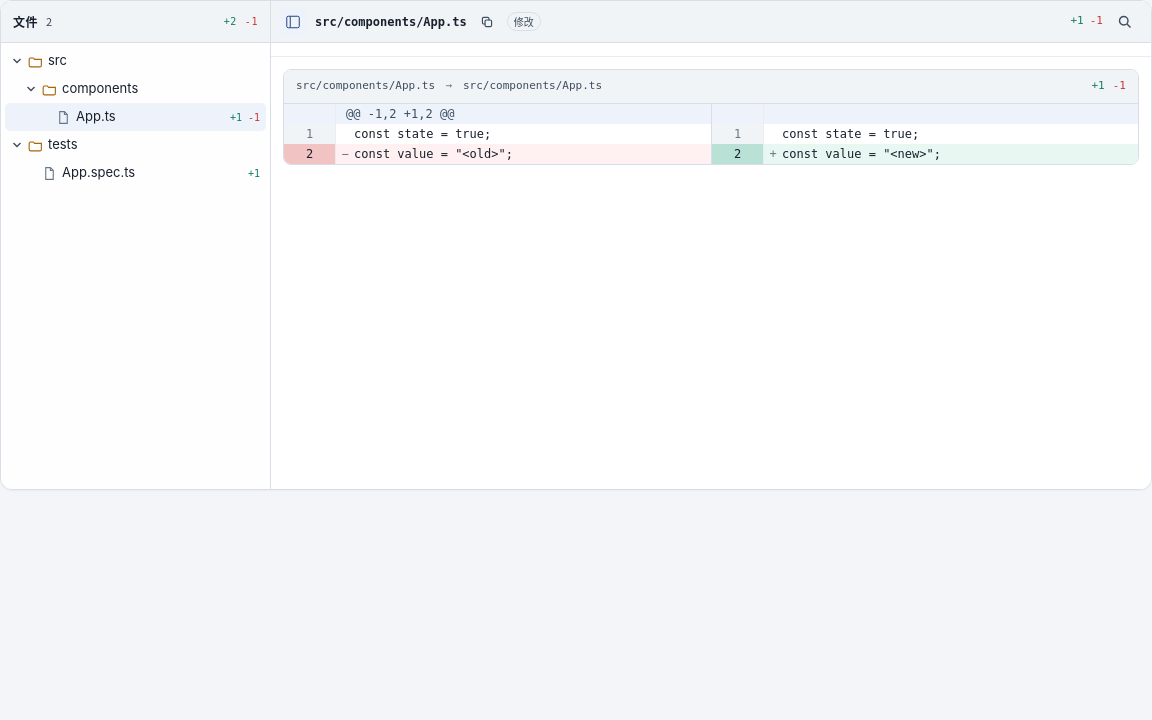
Test: DiffViewer 受控标准 patch › 切换文件时只渲染对应的标准 patch
Click the list item "App.spec.ts +1". click: (136, 173)
box: [5,159,266,187]
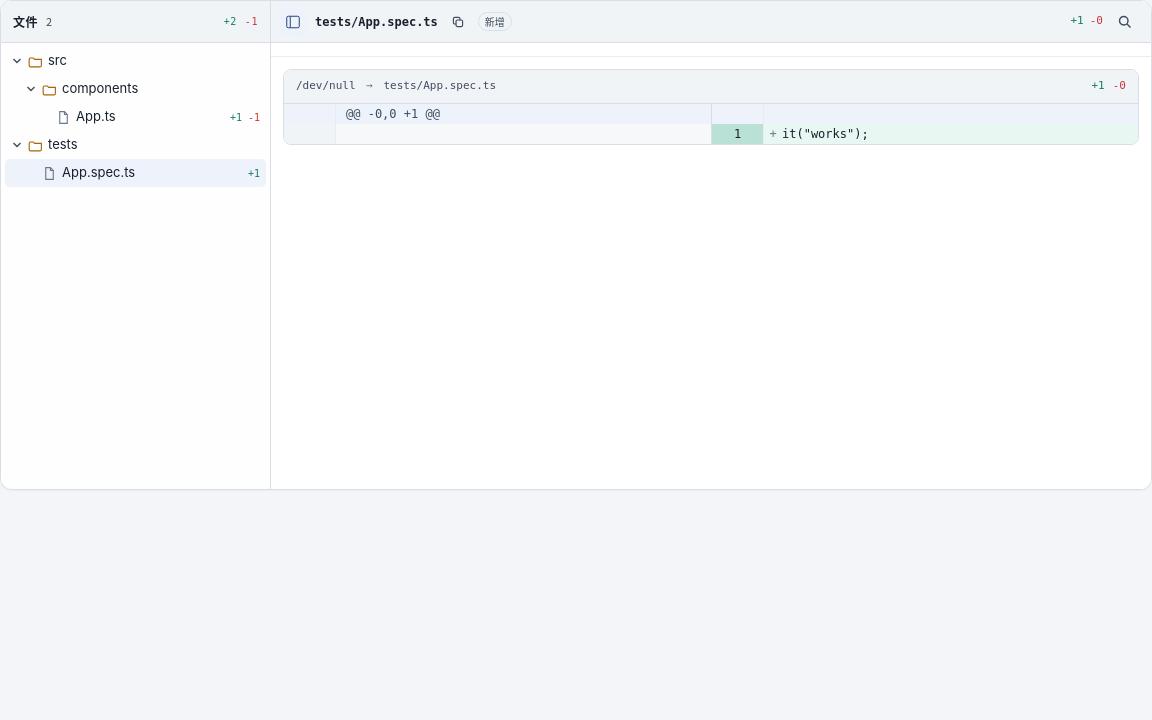
Now the element with class "controlled-side-right" shows "it(\"works\");", box [782,127,869,141]
Now the number of elements with class "controlled-line-addition" is 1, box [712,124,1138,144]
